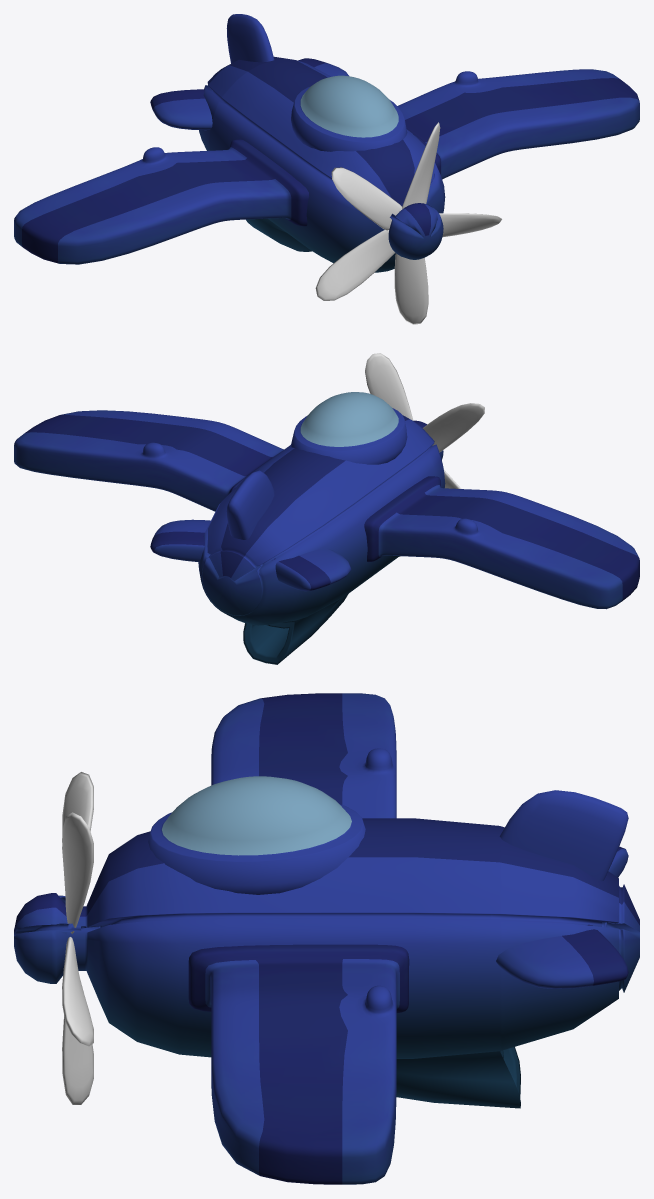
3 renders of one model, top to bottom at view 1: azimuth 30°, elevation 25°; view 2: azimuth 150°, elevation 25°; view 3: azimuth 270°, elevation 25°, orthographic. The views are drawn at different scales.
Parts seen in each view (by area): view 1: Sphere.009, Cube.019; view 2: Sphere.009, Cube.019; view 3: Sphere.009, Cube.019.
Part boxes in pixels (box(x1,y1,x2,y2)): Sphere.009: box(14, 14, 639, 272); Cube.019: box(315, 122, 501, 324); Sphere.009: box(14, 392, 639, 664); Cube.019: box(365, 353, 484, 556); Sphere.009: box(14, 693, 639, 1184); Cube.019: box(62, 772, 93, 1104).
Size of the model in its own units: 899 by 291 by 519.
